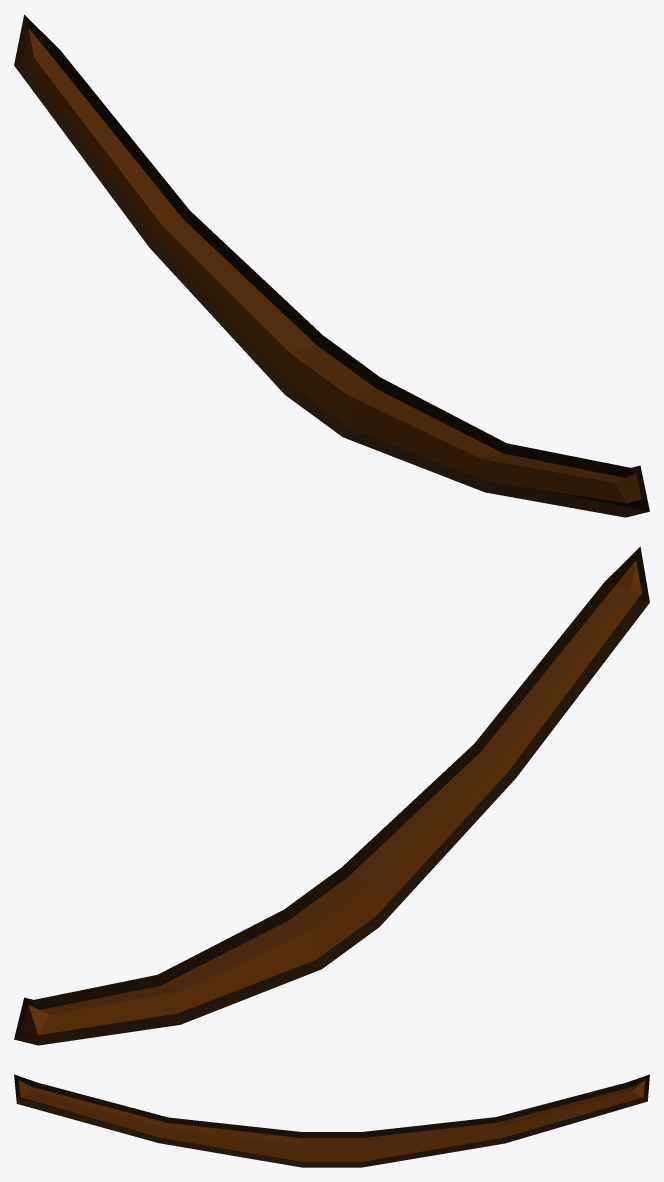
Rendered from Archer-Bow.FBX.
3 views of the same model, one above another, from view 1: azimuth 30°, elevation 25°; view 2: azimuth 150°, elevation 25°; view 3: azimuth 270°, elevation 25° (orthographic). The views are drawn at different scales.
Parts seen in each view (by area): view 1: Bow; view 2: Bow; view 3: Bow.
Boxes of the visible parts, x1,y1,x2,y2 form: Bow: (14,14,649,517); Bow: (14,546,649,1045); Bow: (14,1074,649,1167).
Size of the model in its own units: 9.28 by 39.04 by 254.
